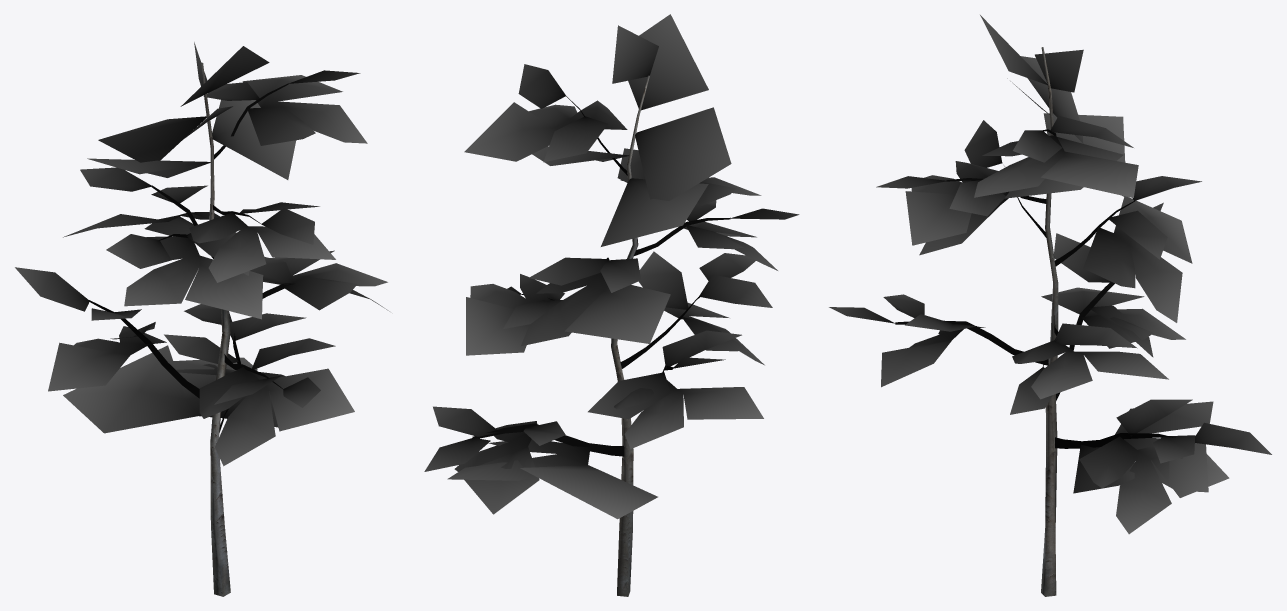
Rendered from beech_tree_00_A.FBX.
The picture shows the model from 3 angles, left to right: view 1: azimuth 30°, elevation 25°; view 2: azimuth 150°, elevation 25°; view 3: azimuth 270°, elevation 25°; orthographic projection. The views are drawn at different scales.
Visible parts, largest first — view 1: beech_tree_00_A_LOD0; view 2: beech_tree_00_A_LOD0; view 3: beech_tree_00_A_LOD0.
Part boxes in pixels (left/top/right/bottom): beech_tree_00_A_LOD0: left=15, top=42, right=389, bottom=596; beech_tree_00_A_LOD0: left=424, top=14, right=799, bottom=596; beech_tree_00_A_LOD0: left=829, top=15, right=1271, bottom=596.
Size of what is drawn, in the model's own units: 1908 by 3291 by 2294.
